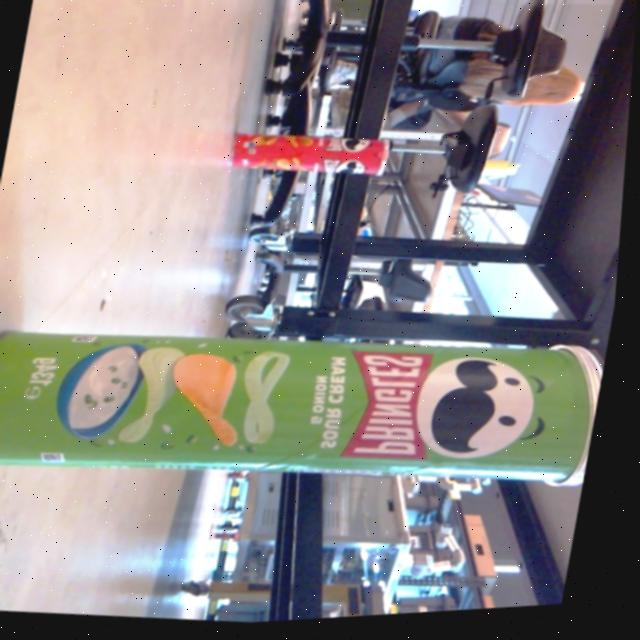greenpringles: (0, 249, 623, 543)
redpringles: (197, 106, 414, 205)
